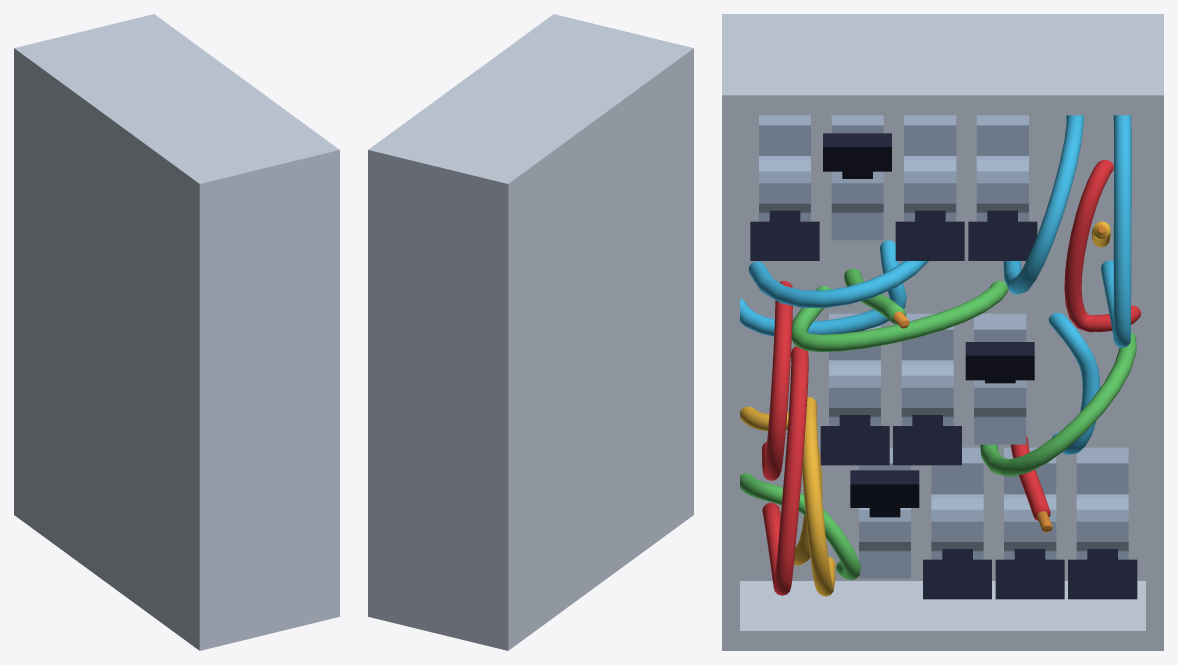
The model's file is Shitock.fbx.
The picture shows the model from 3 angles, left to right: view 1: azimuth 30°, elevation 25°; view 2: azimuth 150°, elevation 25°; view 3: azimuth 270°, elevation 25°; orthographic projection. The views are drawn at different scales.
Visible parts, largest first — view 1: Cube; view 2: Cube; view 3: Cube, BezierCurve.
Part boxes in pixels (x1,y1,x2,y2): Cube: (14,14,339,650); Cube: (368,14,693,650); Cube: (722,14,1163,650); BezierCurve: (740,115,1141,596).
Size of the model in its own units: 102 by 278 by 200.
